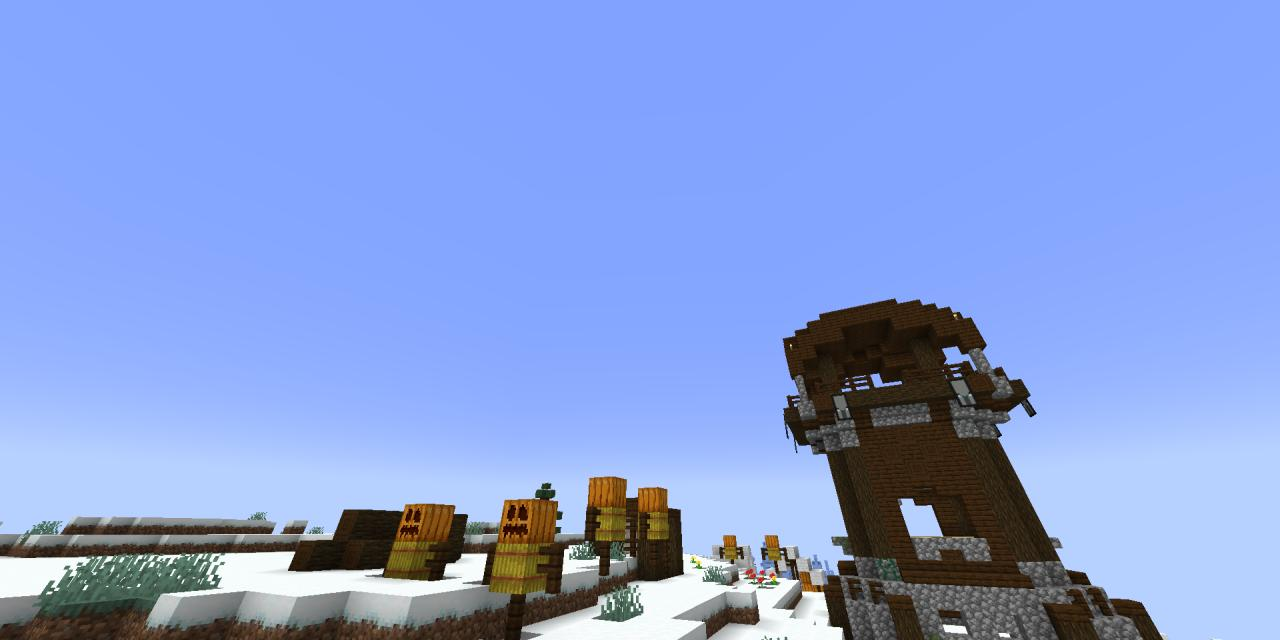pillager outpost: (772, 283, 1164, 640)
